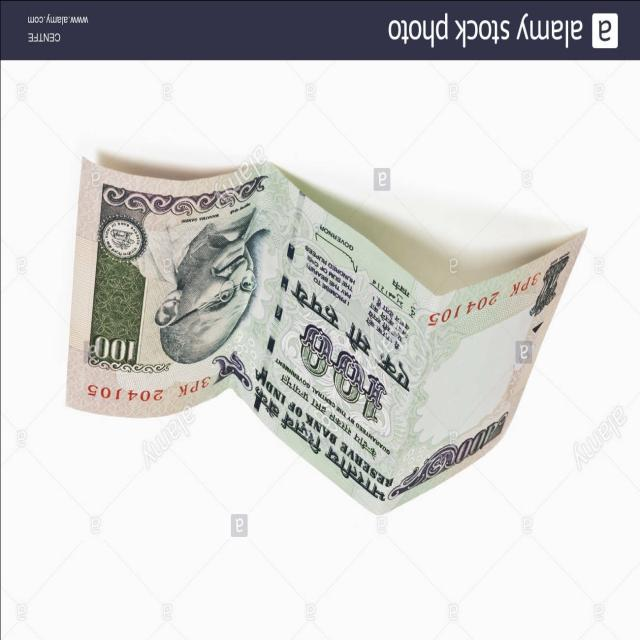100IndianRupees: (68, 159, 590, 518)
